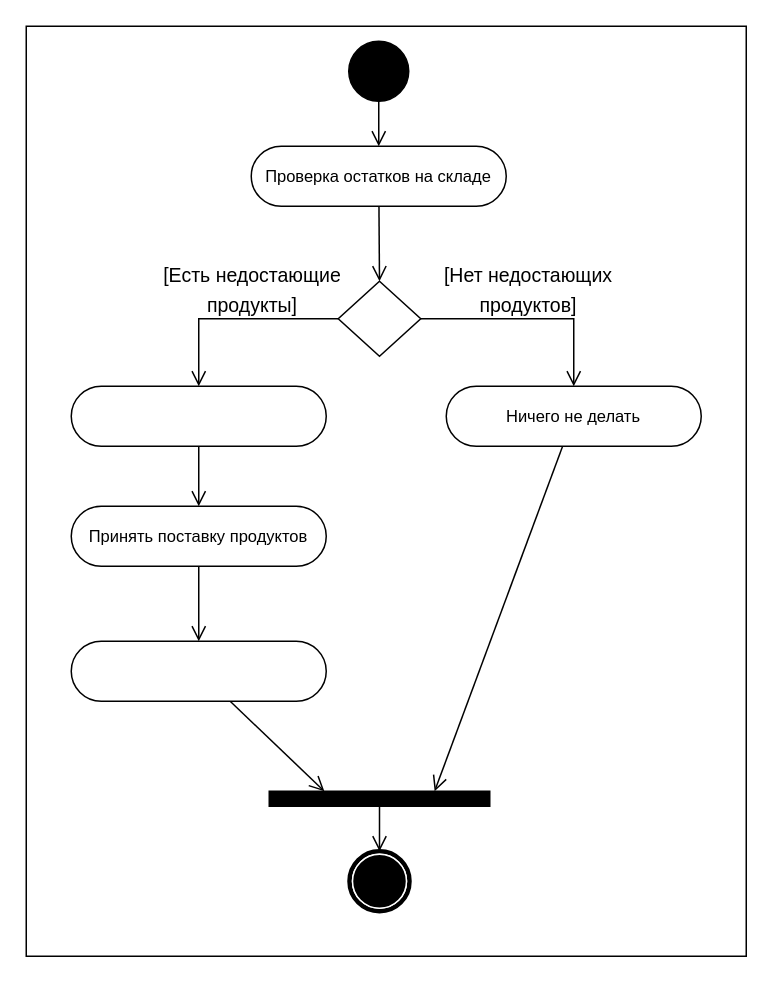
The diagram is 773 pixels wide and 983 high, and some of its shapes have lost their labels. The centre of each missing label's shape, as x and y in pixels:
Заказать недостающие продукты: point (198, 415)
Зарегистрировать принятые продукты в базе данных: point (198, 670)
